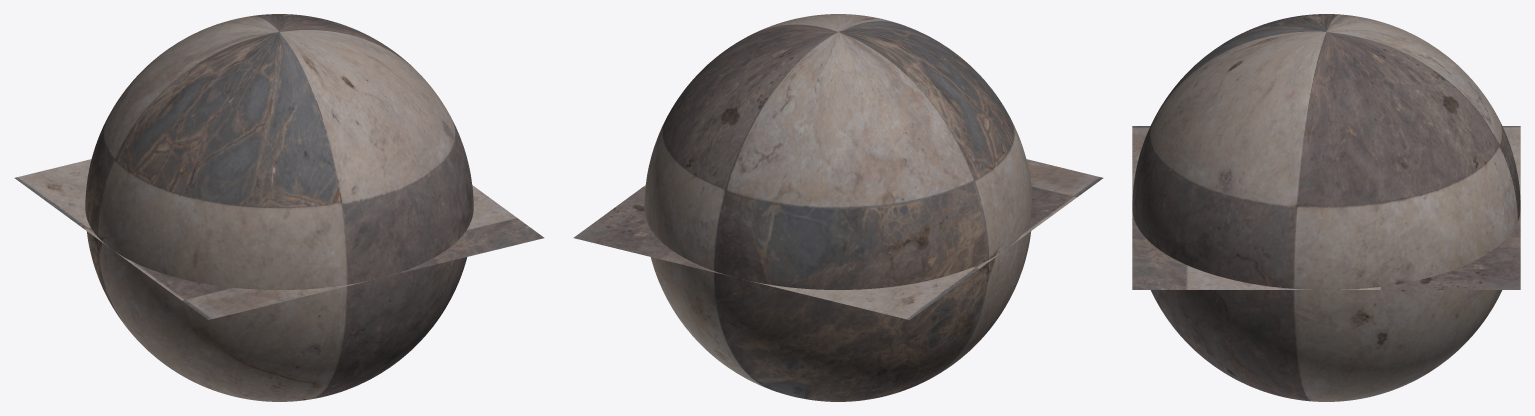
Rendered from floor_tiles_06_2k.fbx.
3 renders of one model, left to right at view 1: azimuth 30°, elevation 25°; view 2: azimuth 150°, elevation 25°; view 3: azimuth 270°, elevation 25°, orthographic.
Parts seen in each view (by area): view 1: Sphere, Plane; view 2: Sphere, Plane; view 3: Sphere, Plane.
Part boxes in pixels (bbox=[...]): Sphere: bbox=[85, 14, 473, 401]; Plane: bbox=[14, 159, 544, 319]; Sphere: bbox=[644, 14, 1032, 401]; Plane: bbox=[573, 159, 1103, 319]; Sphere: bbox=[1132, 14, 1520, 401]; Plane: bbox=[1132, 126, 1520, 289].
Size of the model in its own units: 300 by 300 by 300.
